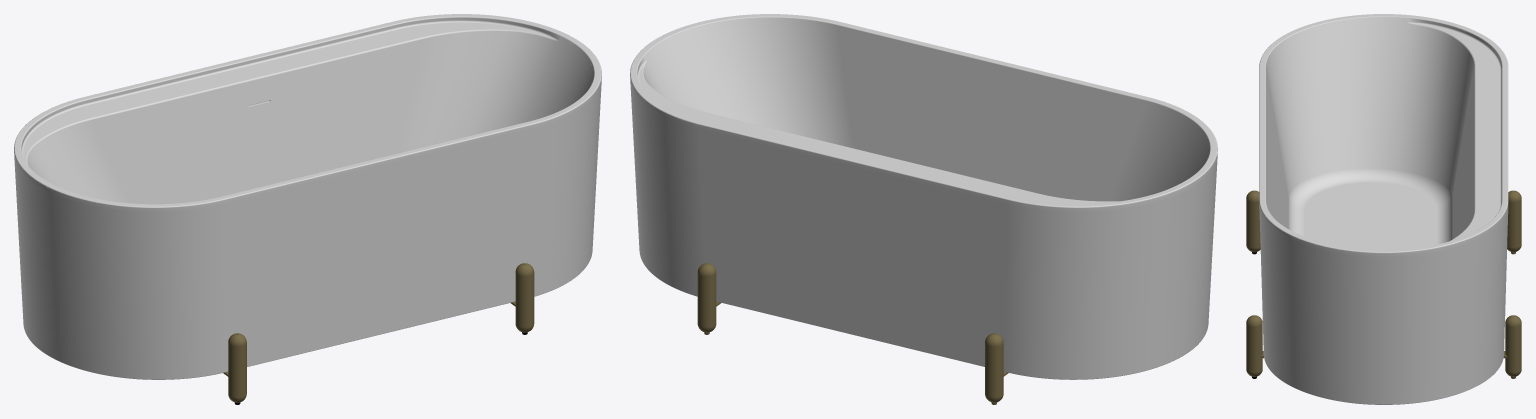
The picture shows the model from 3 angles, left to right: view 1: azimuth 30°, elevation 25°; view 2: azimuth 150°, elevation 25°; view 3: azimuth 270°, elevation 25°; orthographic projection. The views are drawn at different scales.
Visible parts, largest first — view 1: 4429EA31A859C84EBEEF5A0EB7F1D23C3503AC32|:|3F635CC986B490470; view 2: 4429EA31A859C84EBEEF5A0EB7F1D23C3503AC32|:|3F635CC986B490470; view 3: 4429EA31A859C84EBEEF5A0EB7F1D23C3503AC32|:|3F635CC986B490470.
Part boxes in pixels (x1,y1,x2,y2): 4429EA31A859C84EBEEF5A0EB7F1D23C3503AC32|:|3F635CC986B490470: [14, 14, 601, 404]; 4429EA31A859C84EBEEF5A0EB7F1D23C3503AC32|:|3F635CC986B490470: [630, 14, 1217, 404]; 4429EA31A859C84EBEEF5A0EB7F1D23C3503AC32|:|3F635CC986B490470: [1246, 14, 1521, 404].
Size of the model in its own units: 1.7 by 0.606 by 0.8295.
